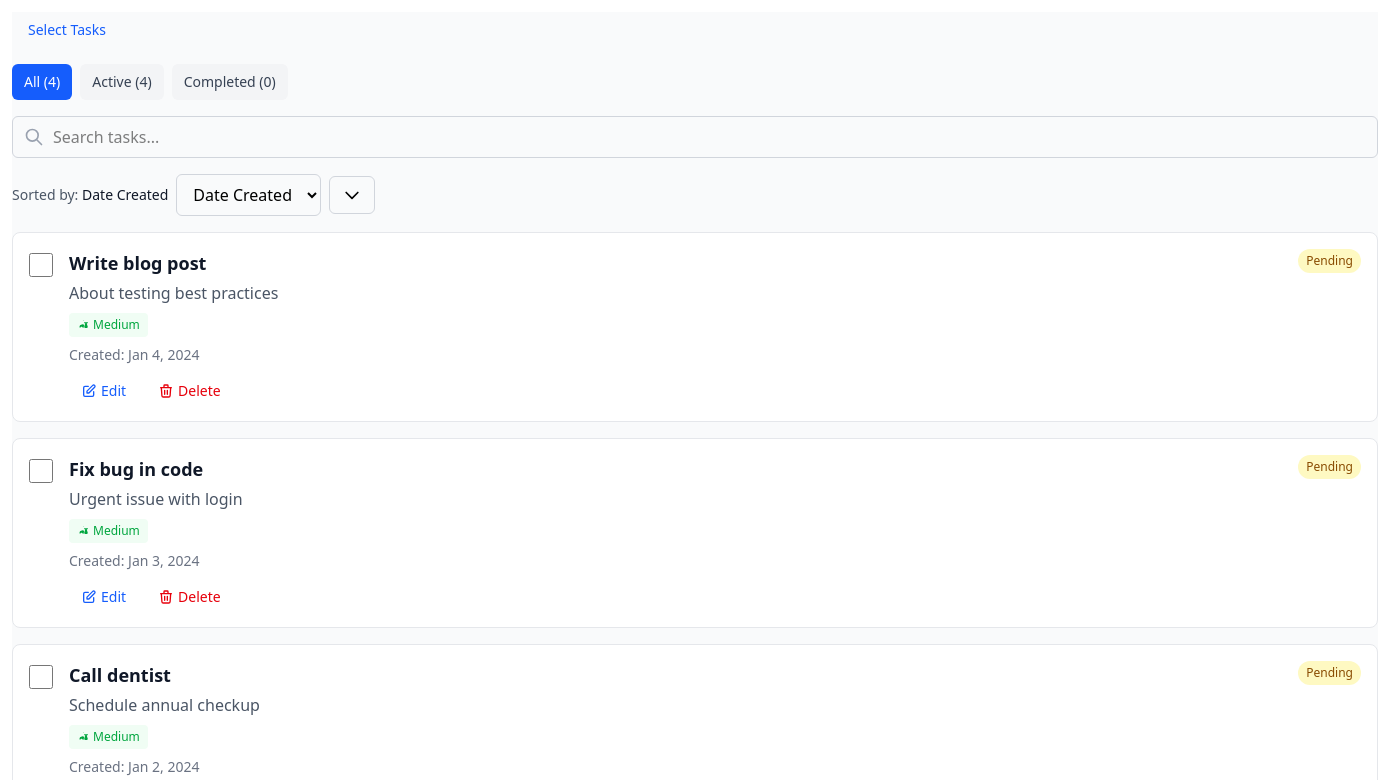
Scenario: User Story 2.4: Search Tasks UI › Search Functionality › should show all tasks when search is empty
Type "test" into the search field.
click(695, 137); type("test")  # box top-left (12, 116), bottom-right (1378, 158)
Wait 300 ms
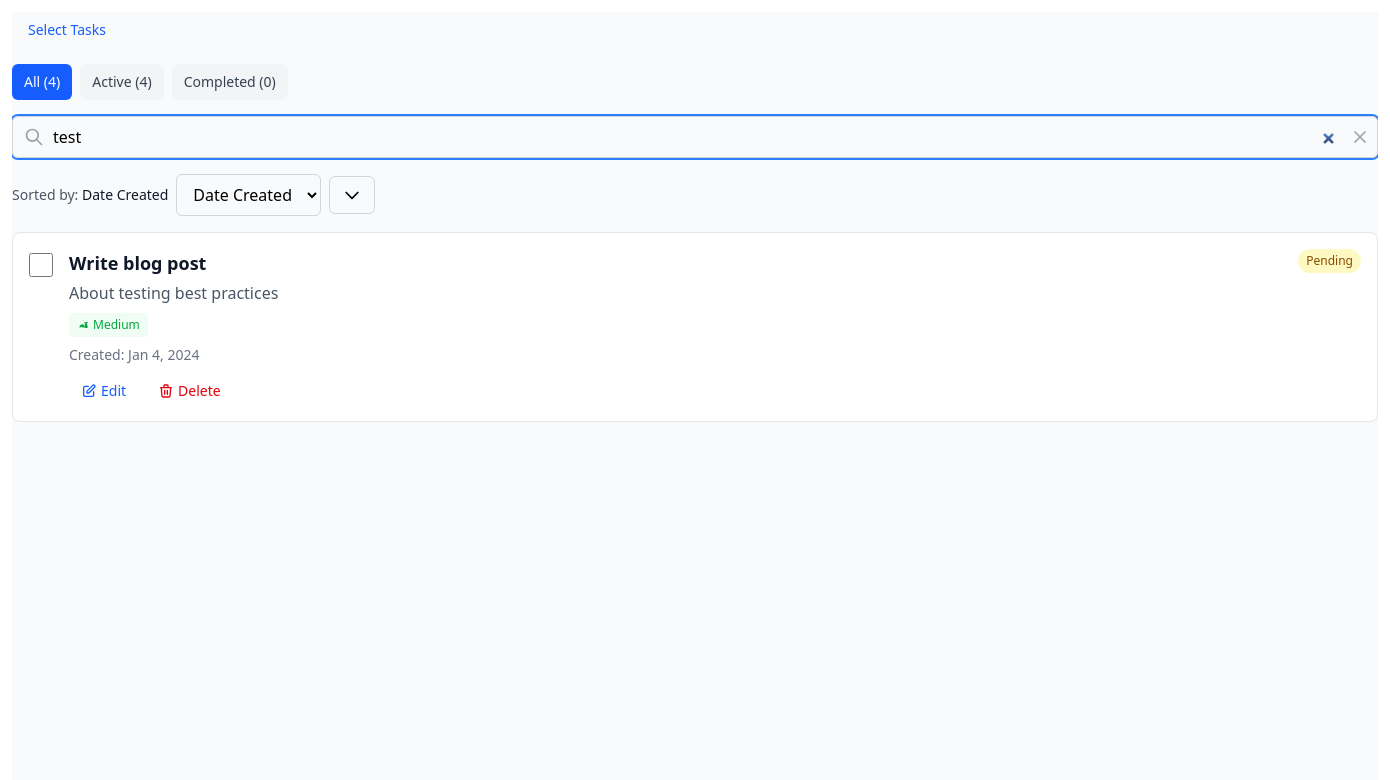
Clear the search field at (695, 137), box top-left (12, 116), bottom-right (1378, 158)
Wait 300 ms
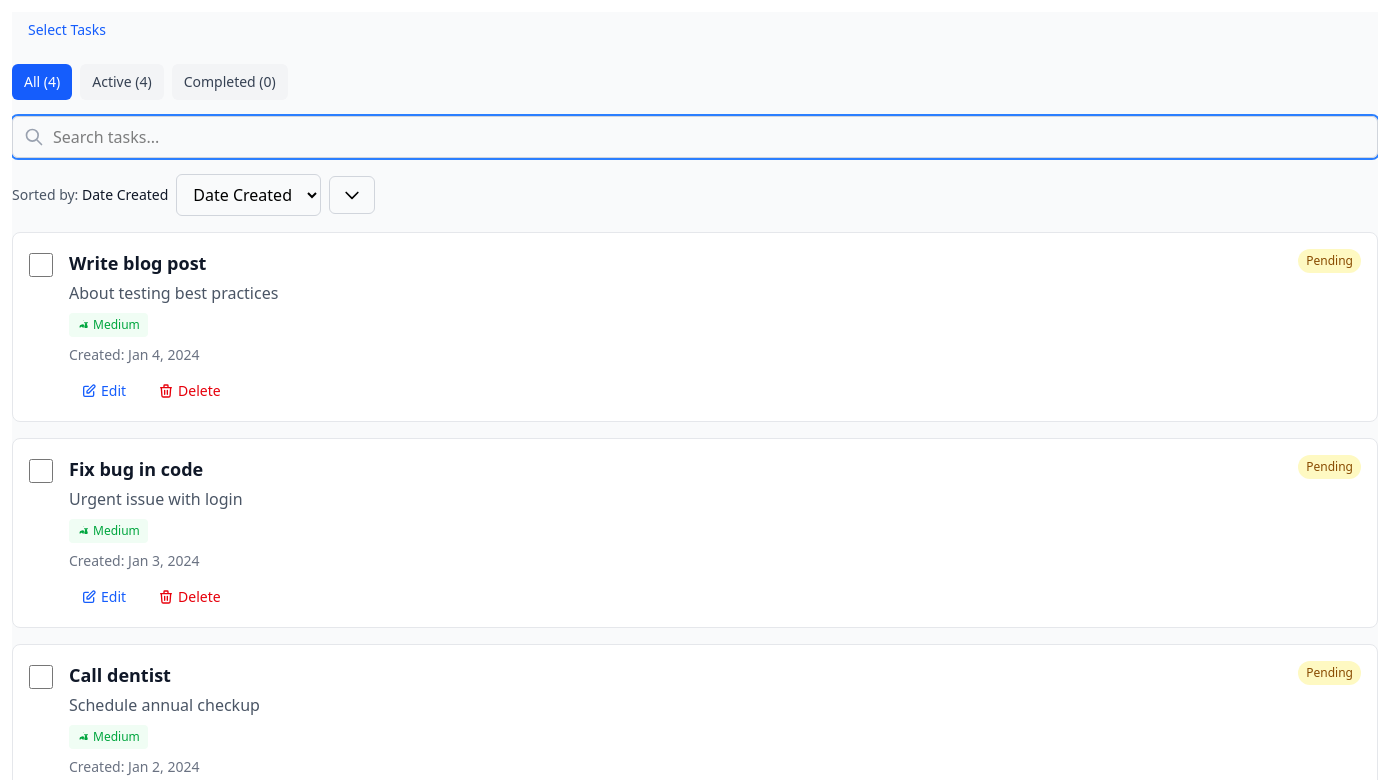
expect the heading "Write blog post" is shown: met, box top-left (69, 249), bottom-right (206, 277)
expect the heading "Call dentist" is shown: met, box top-left (69, 661), bottom-right (171, 689)
expect the heading "Fix bug in code" is shown: met, box top-left (69, 455), bottom-right (203, 483)
